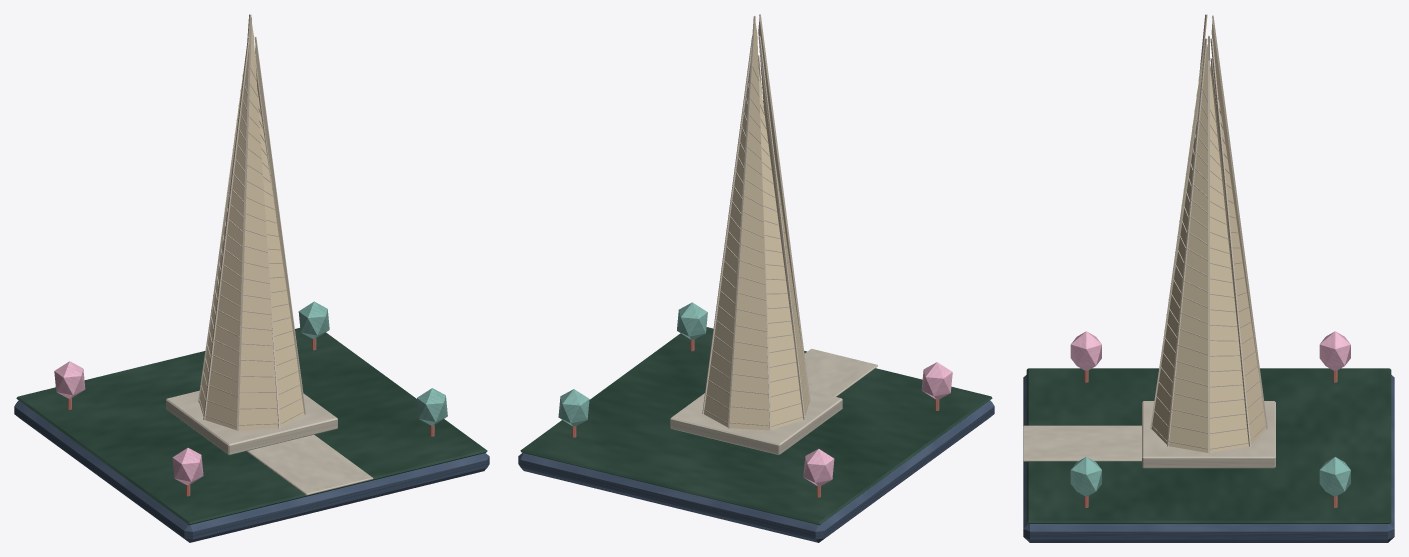
File: the-shard-diorama.glb
The picture shows the model from 3 angles, left to right: view 1: azimuth 30°, elevation 25°; view 2: azimuth 150°, elevation 25°; view 3: azimuth 270°, elevation 25°; orthographic projection. The views are drawn at different scales.
Visible parts, largest first — view 1: the-shard; view 2: the-shard; view 3: the-shard.
Boxes of the visible parts, x1,y1,x2,y2 form: the-shard: (14, 14, 489, 542); the-shard: (518, 14, 994, 542); the-shard: (1023, 14, 1394, 542).
Bounding box in the file's own units: 10 × 13.42 × 10.
1 material, 1 textured.
